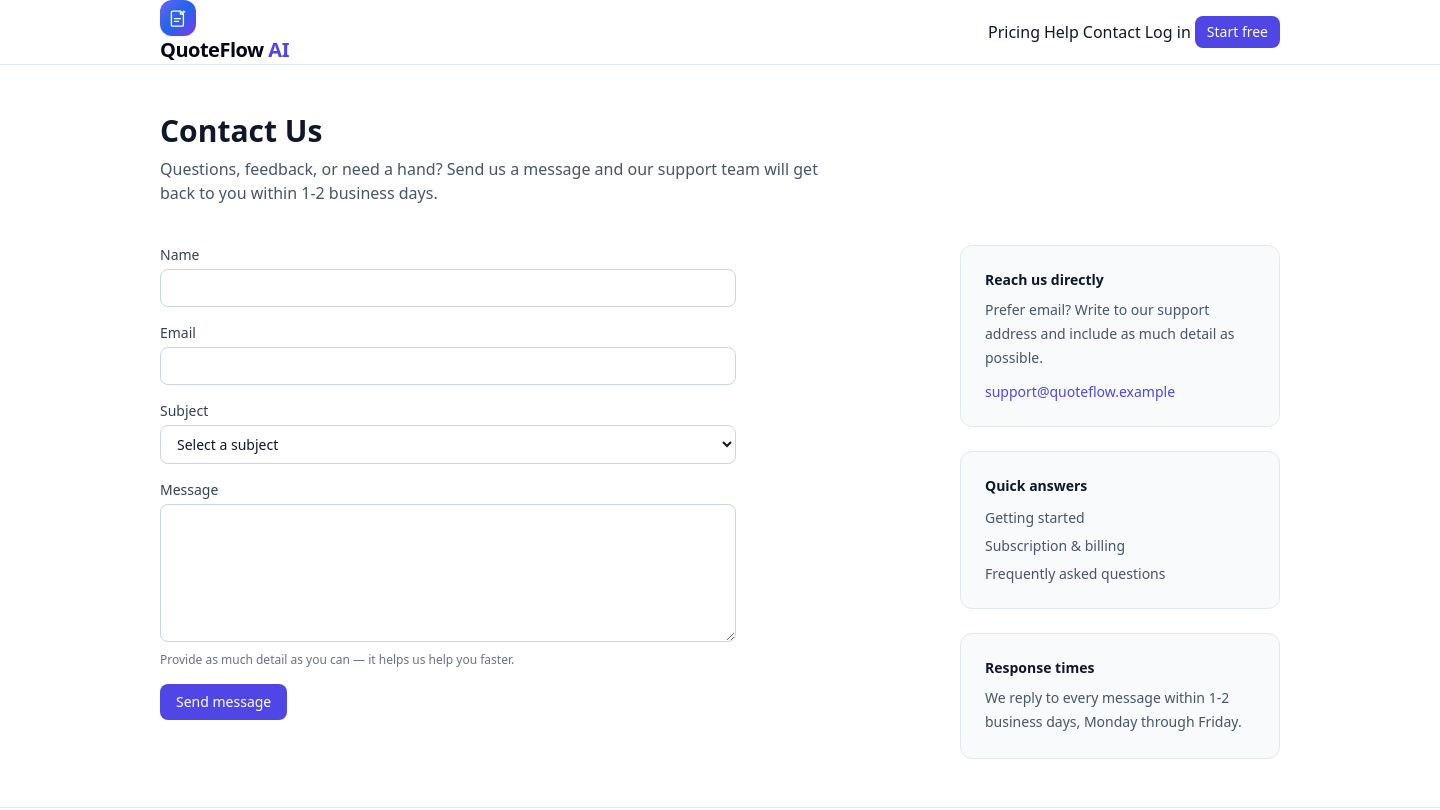
contact page › sends a valid message and shows the success state
Type "Jane Customer" into the field labelled "Name".
click(448, 288); type("Jane Customer")  # box top-left (160, 269), bottom-right (736, 307)
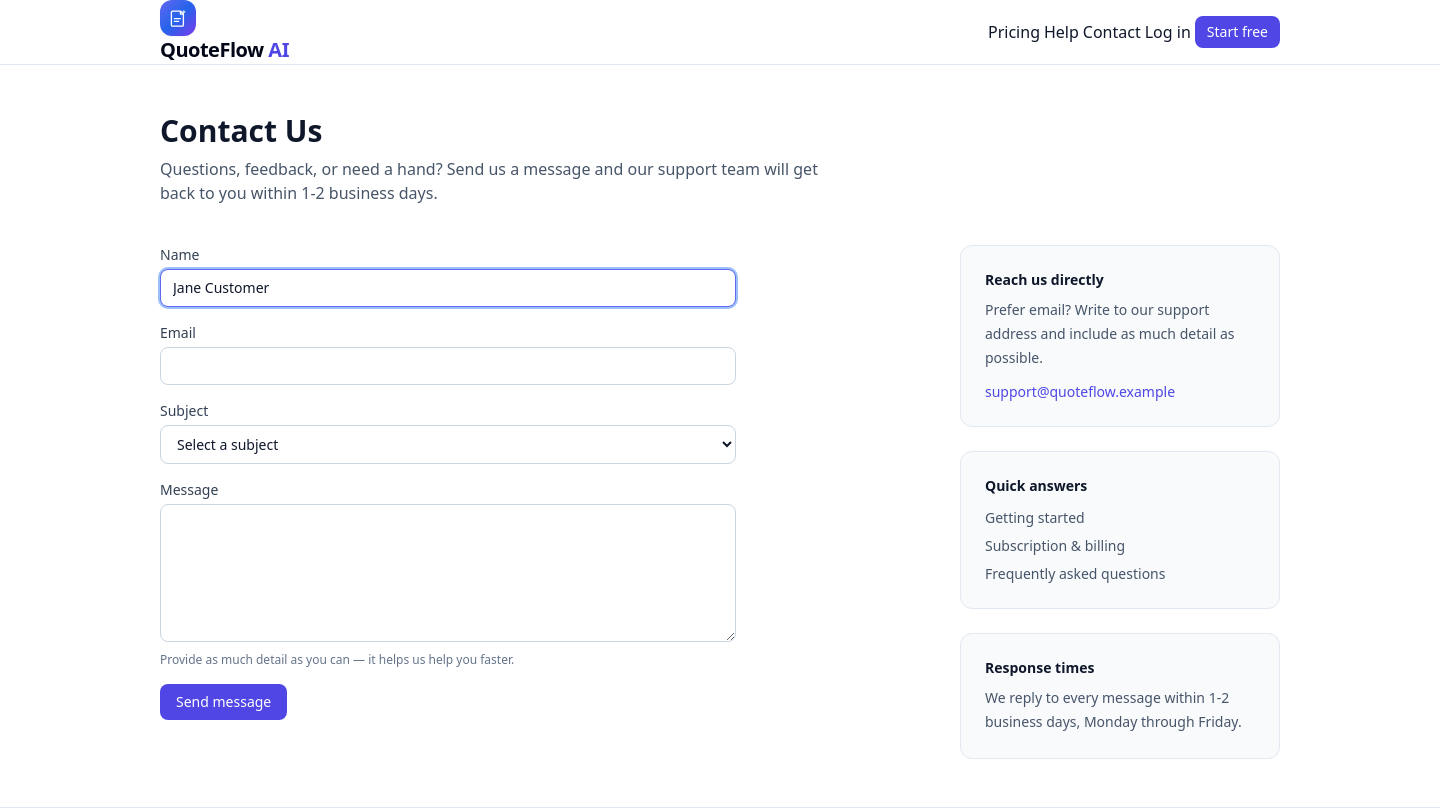
Type "jane@example.com" into the field labelled "Email".
click(448, 366); type("jane@example.com")  # box top-left (160, 347), bottom-right (736, 385)
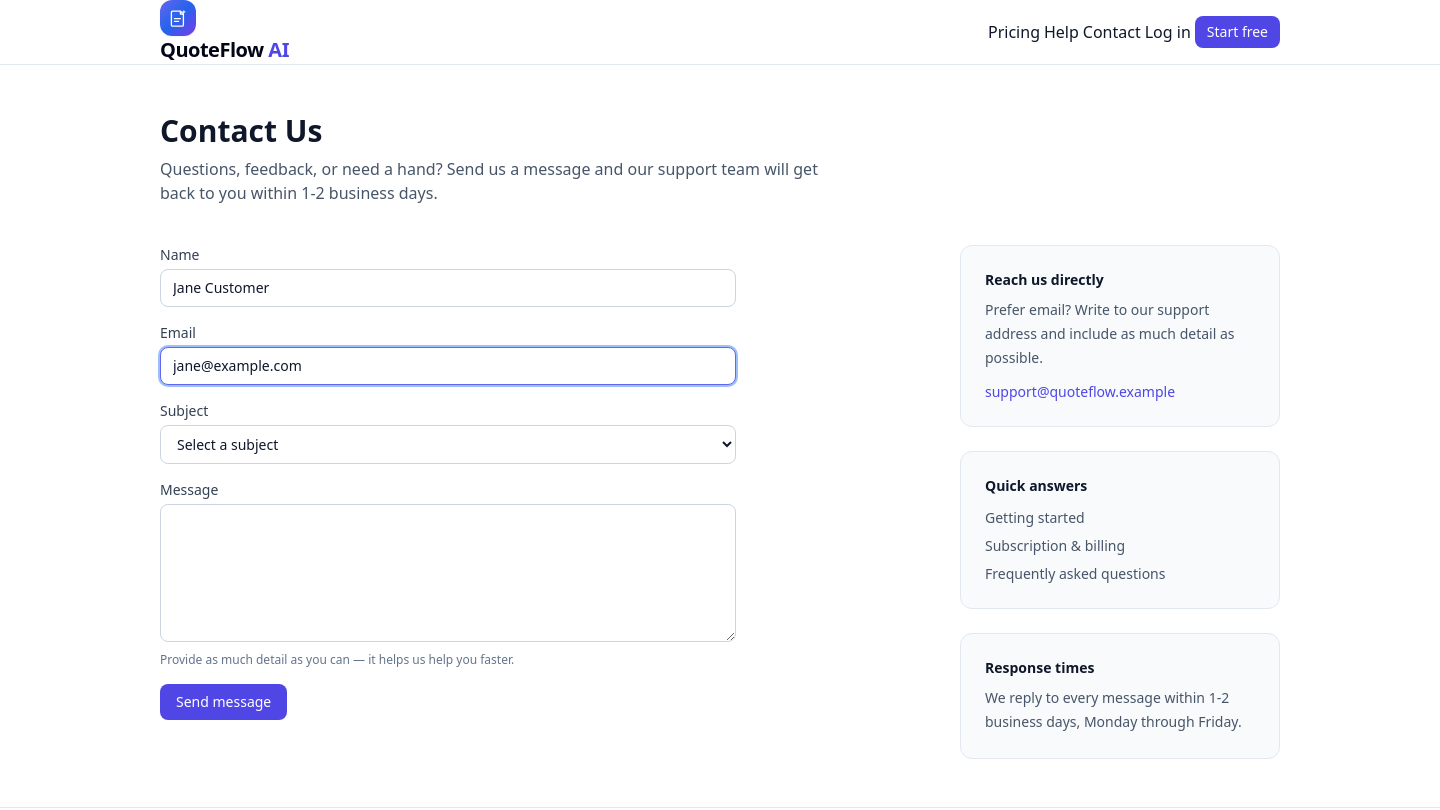
Select "Subscription & billing" in the dropdown labelled "Subject" at [448, 444], box top-left (160, 425), bottom-right (736, 464)
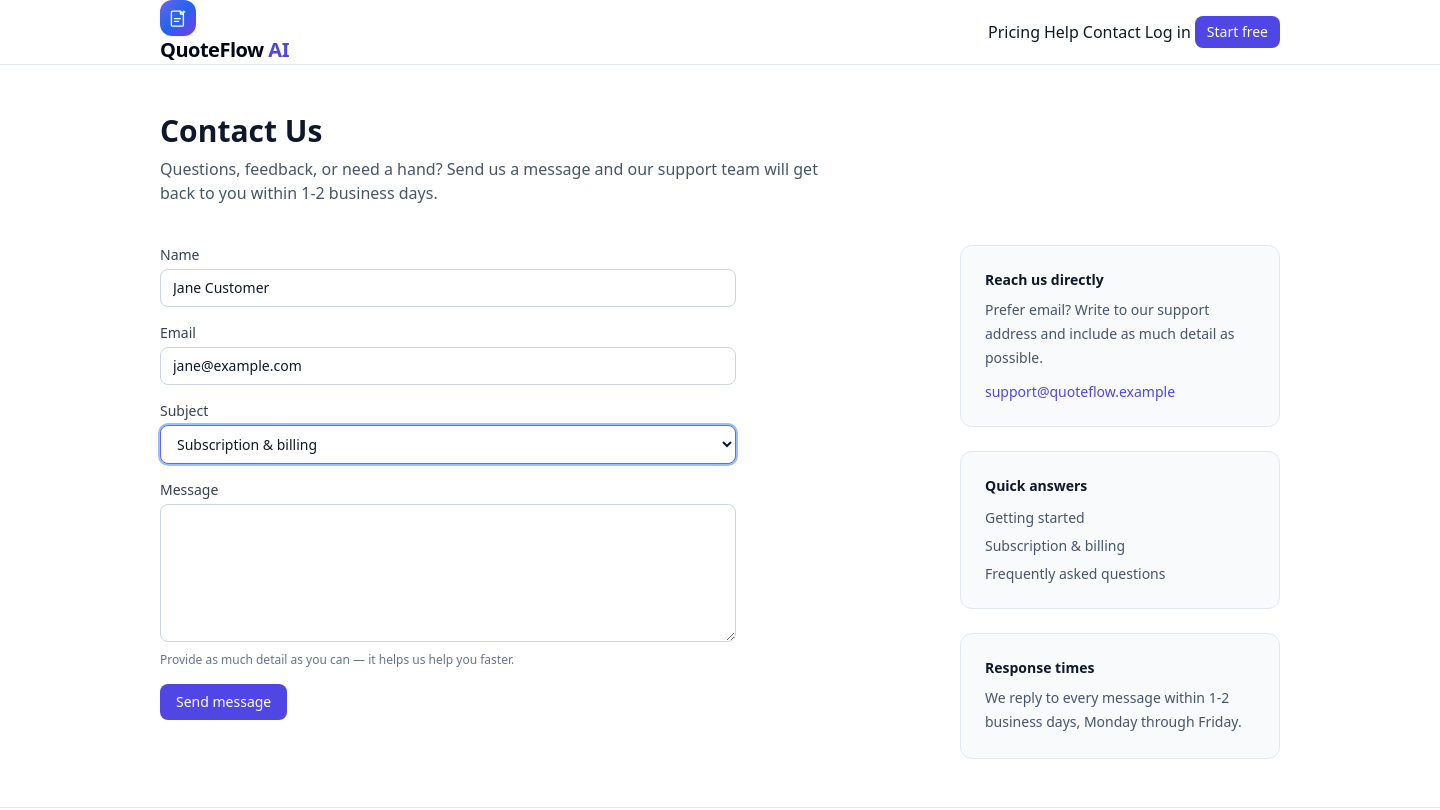
Type "My card was charged twice last month. Please help." into the text box labelled "Message".
click(448, 573); type("My card was charged twice last month. Please help.")  # box top-left (160, 504), bottom-right (736, 642)
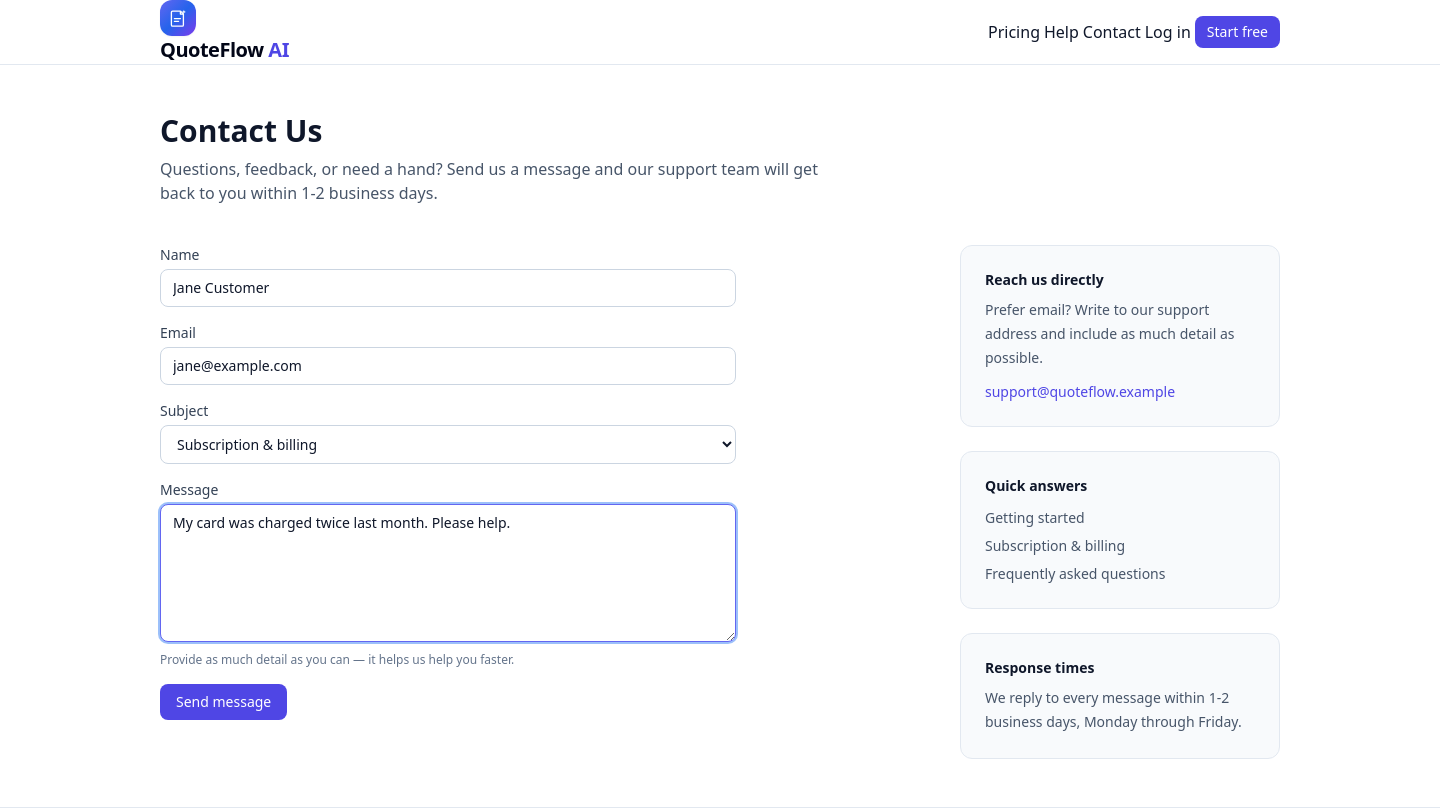
Click the button "Send message".
click(224, 702)  # box top-left (160, 684), bottom-right (287, 720)
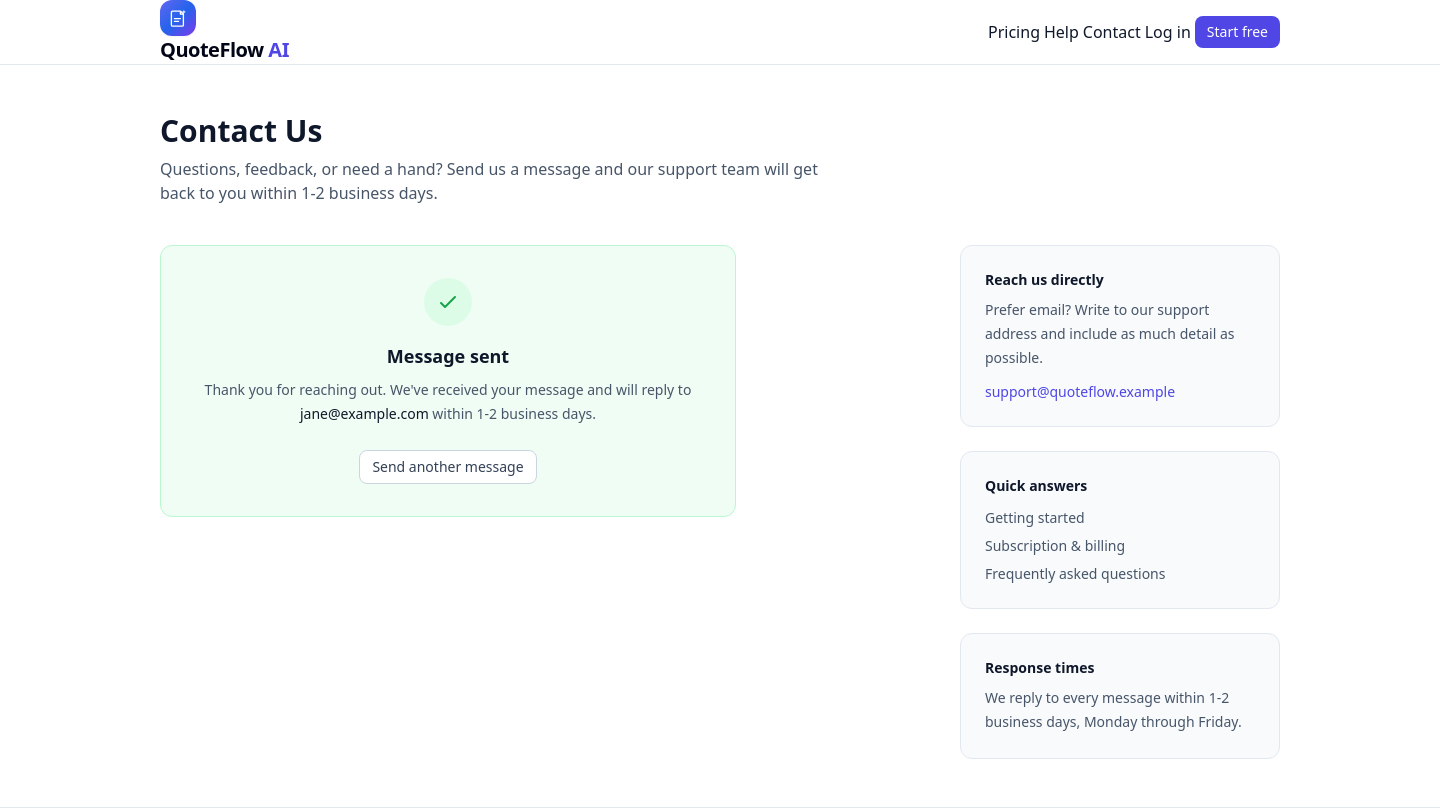
Expected: the heading "Message sent" is shown, top-left (387, 344), bottom-right (509, 368)
Expected: the text "We've received your message" is shown, top-left (205, 380), bottom-right (691, 399)
Expected: the text "jane@example.com" is shown, top-left (300, 404), bottom-right (429, 423)
